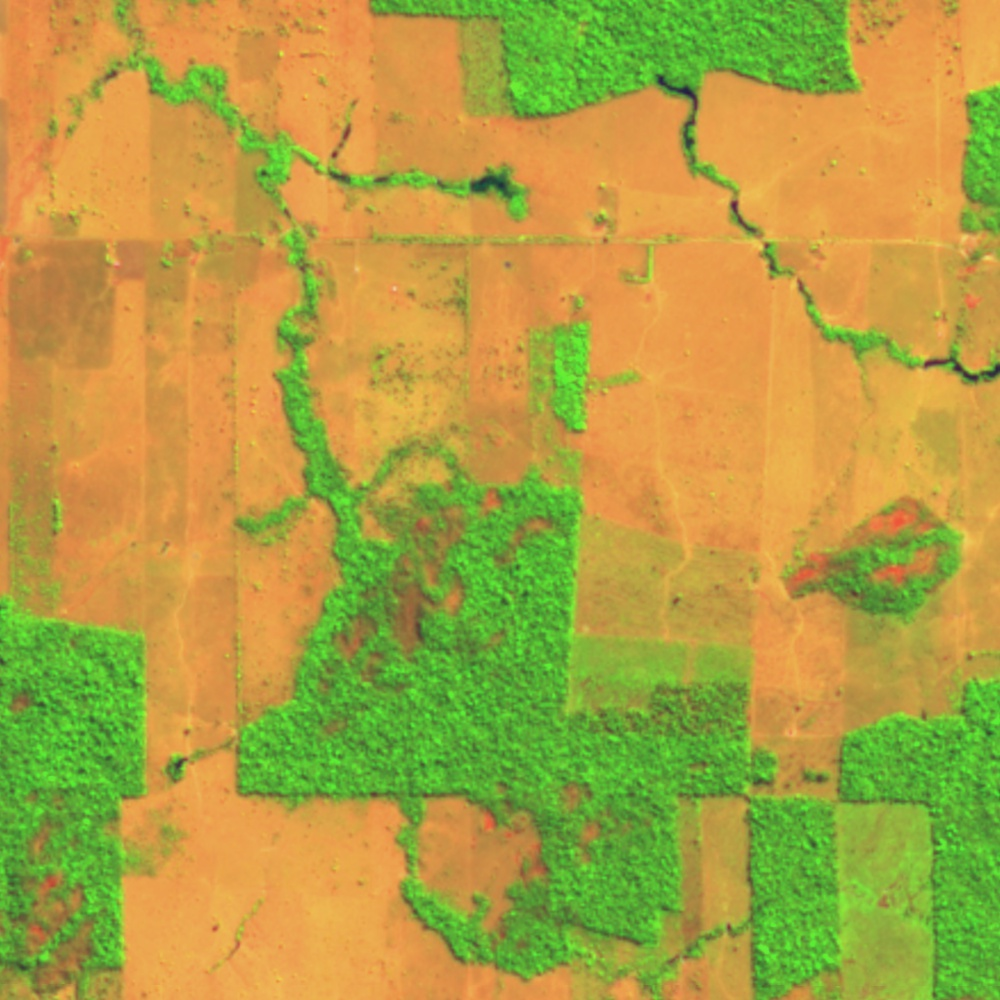legal: (653, 70, 818, 307), (326, 97, 521, 202), (913, 351, 1000, 386), (93, 57, 138, 97), (171, 747, 218, 780)
